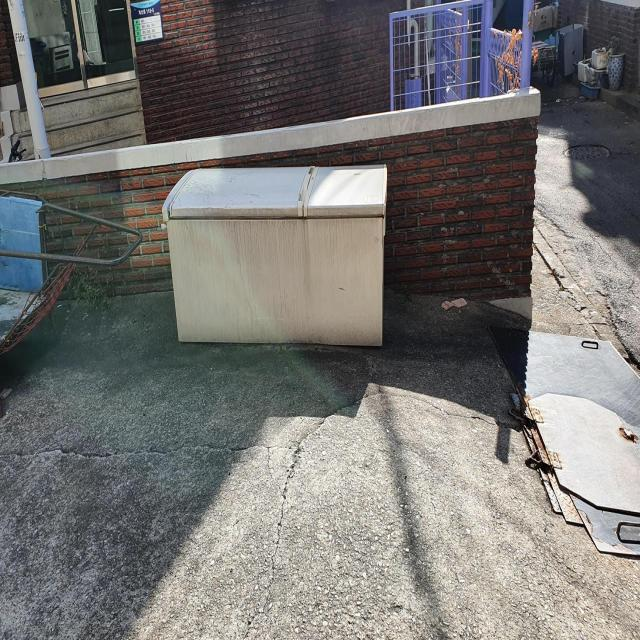refrigerator: (161, 165, 387, 348)
